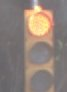Red: (19, 8, 56, 92)
